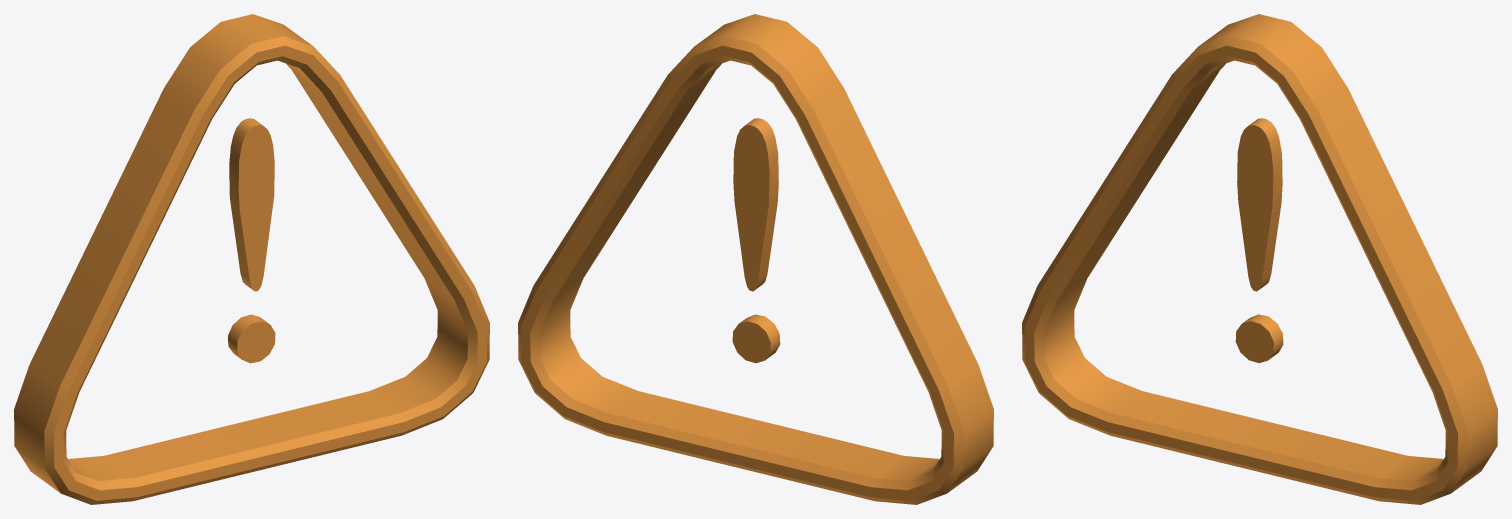
Rendered from alert.glb.
3 views of the same model, side by side, from view 1: azimuth 30°, elevation 25°; view 2: azimuth 150°, elevation 25°; view 3: azimuth 330°, elevation 25° (orthographic).
Visible parts, largest first — view 1: Text_yellow_0; view 2: Text_yellow_0; view 3: Text_yellow_0.
Boxes of the visible parts, x1,y1,x2,y2 form: Text_yellow_0: (14, 14, 489, 504); Text_yellow_0: (518, 14, 993, 504); Text_yellow_0: (1022, 14, 1497, 504).
Size of the model in its own units: 1.38 by 1.26 by 0.2.
